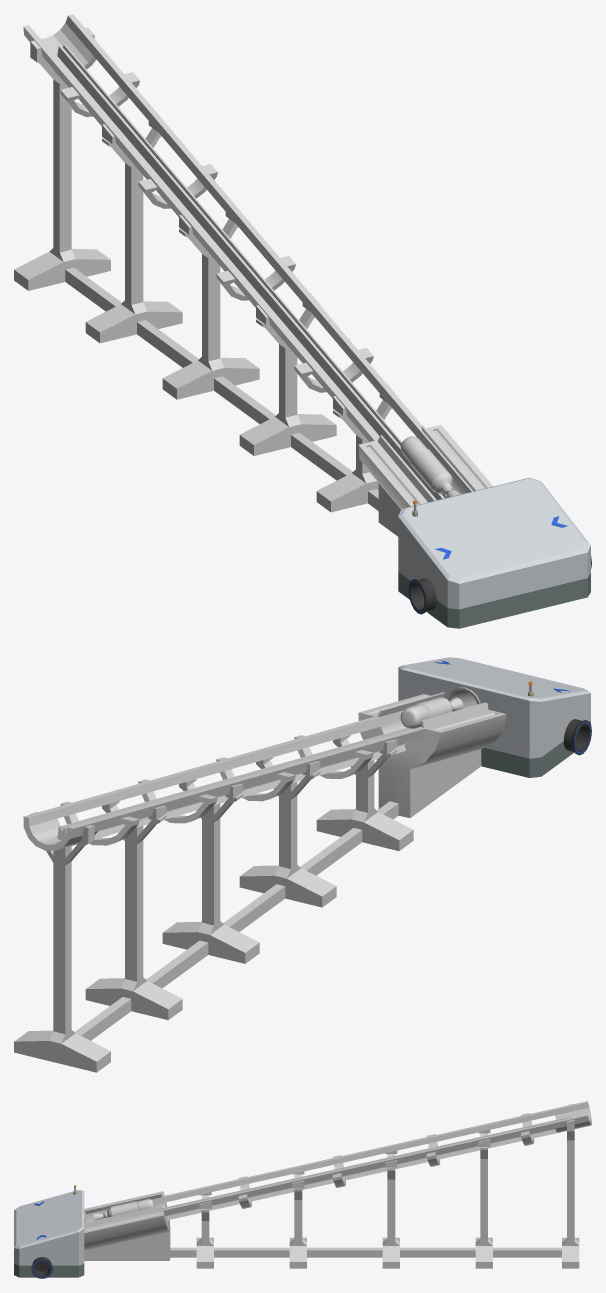
Rendered from Railgun.fbx.
3 renders of one model, top to bottom at view 1: azimuth 30°, elevation 25°; view 2: azimuth 150°, elevation 25°; view 3: azimuth 270°, elevation 25°, orthographic. The views are drawn at different scales.
Parts seen in each view (by area): view 1: Cylinder.003, Template_1x2 1-1.001, Cube.006, Cube.007, Cube.005, Cube.001, Cube.004, Cylinder.005, Cube.002, Cylinder.004; view 2: Cylinder.003, Template_1x2 1-1.001, Cube.006, Cube.007, Cube.005, Cube.001, Cube.004, Cube.002, Cylinder.005, Cylinder.004; view 3: Cylinder.003, Template_1x2 1-1.001, Cube.001, Cube.006, Cube.007, Cube.005, Cube.004, Cube.002, Cylinder.005, Cylinder.004.
Boxes of the visible parts, box(x1,y1,x2,y2) form: Cylinder.003: box(23, 14, 493, 536); Template_1x2 1-1.001: box(398, 477, 591, 628); Cube.006: box(14, 27, 110, 290); Cube.007: box(85, 112, 182, 343); Cube.005: box(162, 202, 259, 399); Cube.001: box(65, 267, 378, 510); Cube.004: box(239, 292, 336, 455); Cylinder.005: box(60, 72, 373, 392); Cube.002: box(316, 383, 396, 512); Cylinder.004: box(400, 436, 460, 497); Cylinder.003: box(23, 692, 506, 850); Template_1x2 1-1.001: box(398, 657, 591, 777); Cube.006: box(14, 812, 110, 1072); Cube.007: box(85, 801, 182, 1020); Cube.005: box(162, 779, 259, 963); Cube.001: box(75, 801, 398, 1040); Cube.004: box(239, 757, 336, 907); Cube.002: box(316, 735, 413, 850); Cylinder.005: box(60, 735, 373, 845); Cylinder.004: box(400, 697, 463, 728); Cylinder.003: box(84, 1101, 591, 1260); Template_1x2 1-1.001: box(14, 1190, 85, 1278); Cube.001: box(170, 1247, 561, 1257); Cube.006: box(562, 1103, 579, 1268); Cube.007: box(475, 1130, 492, 1268); Cube.005: box(382, 1150, 399, 1268); Cube.004: box(289, 1171, 306, 1268); Cube.002: box(196, 1192, 213, 1268); Cylinder.005: box(238, 1113, 534, 1208); Cylinder.004: box(93, 1199, 154, 1220).
Bounding box in the file's own units: 200 × 283 × 1002.
